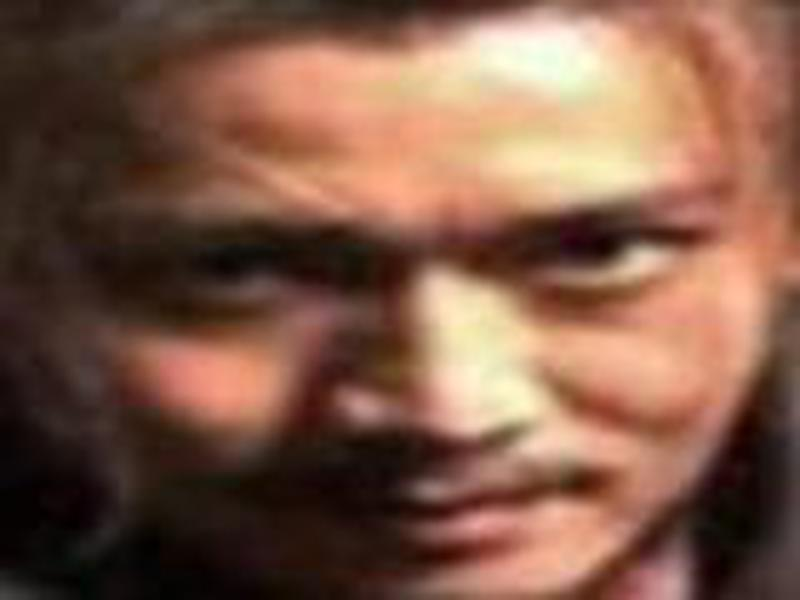without_mask: (49, 46, 749, 589)
